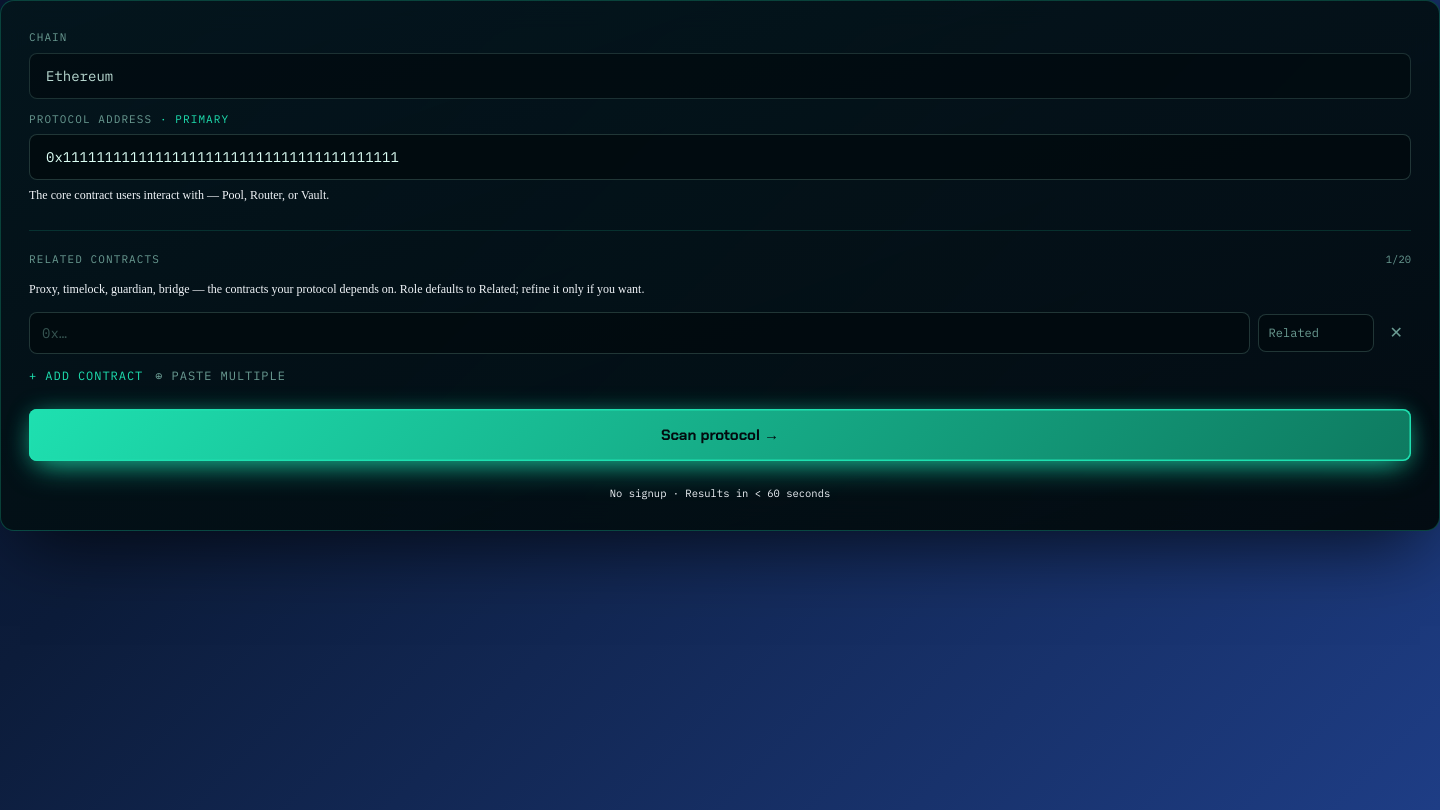
Test case: MultiContractForm — submit (mirrors ScanForm) › renders a server error message readably (no raw JSON) and does not navigate
Step 1. Click the button "Scan protocol →" → click(720, 435), box [29,409,1411,461]
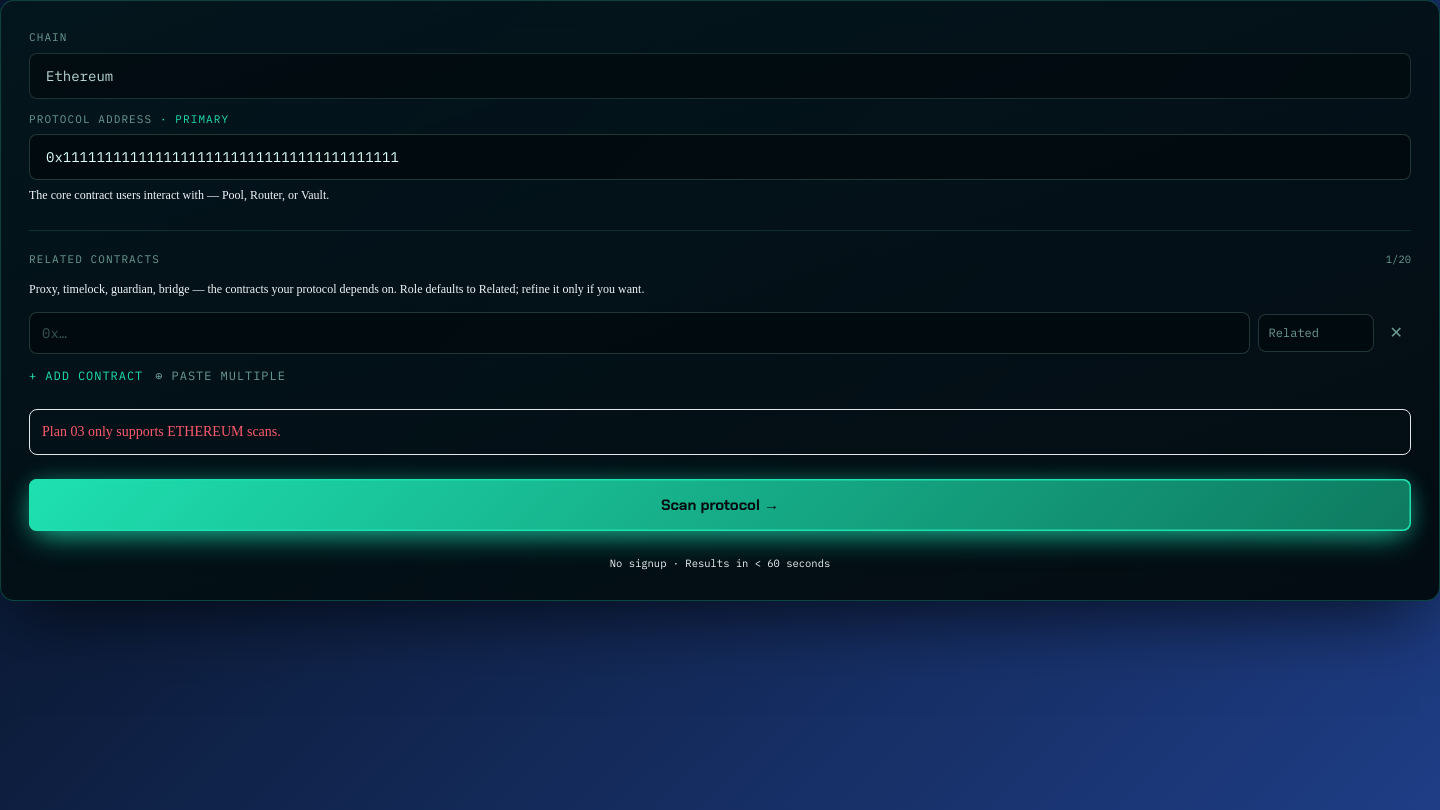
expect the message "Plan 03 only supports ETHEREUM scans." is shown: met, box [29,409,1411,455]
expect the text "Plan 03 only supports ETHEREUM scans." is shown: met, box [42,424,281,439]
